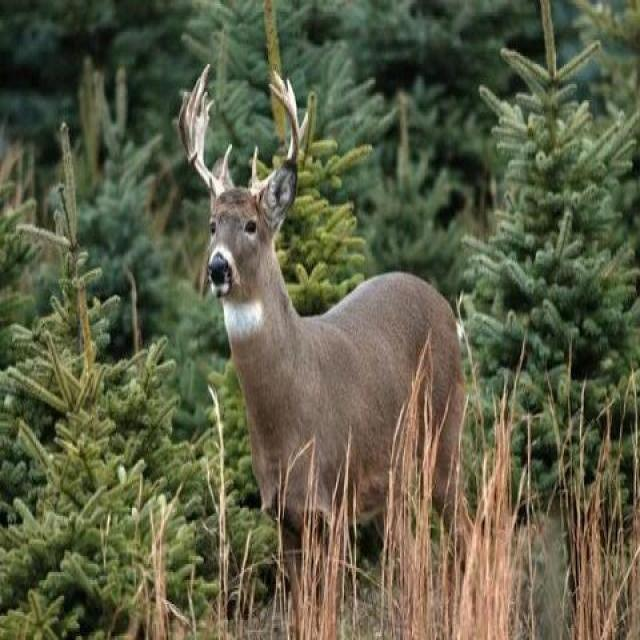deer: (160, 116, 487, 511)
